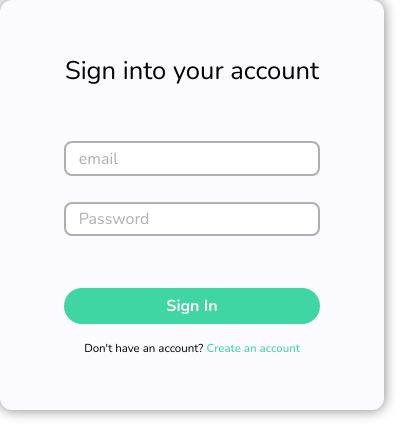
Test: Auth Component › displays an error message if signIn fails
Type "test@example.com" into the field with placeholder "email" at (192, 159), box [64,142,320,176]
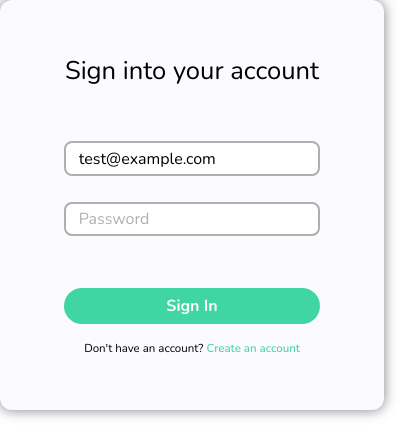
Type "password123" into the password field with placeholder "Password" at (192, 219), box [64,202,320,236]
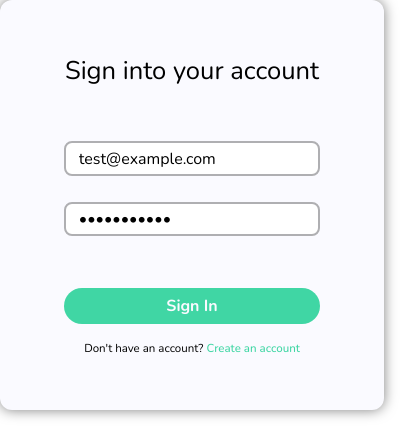
Click the button "Sign In" at (192, 306), box [64,294,320,318]
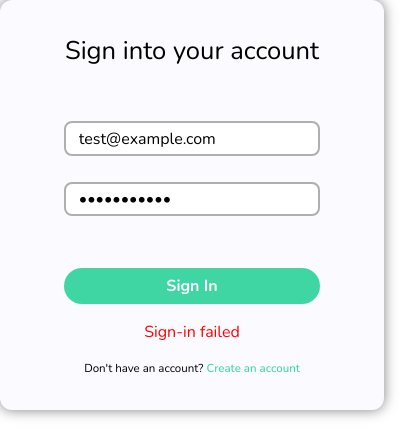
Check: the text "Sign-in failed" is shown, box [144,320,240,344]
